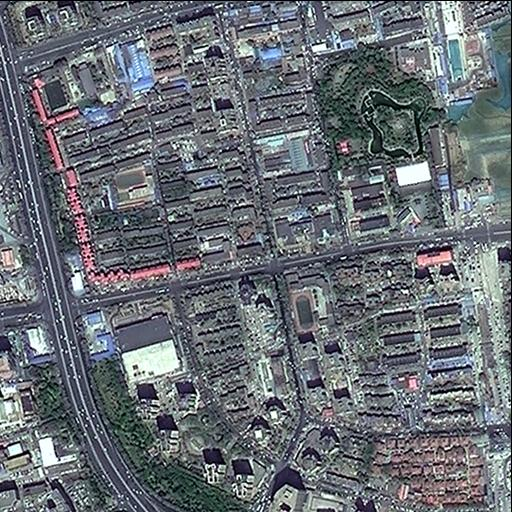school: (283, 267, 336, 337), (110, 159, 161, 211)
